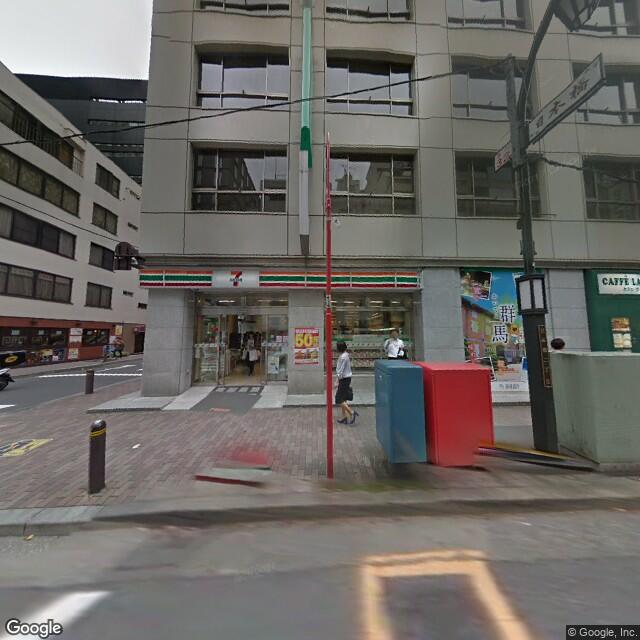7-eleven: (137, 258, 425, 297)
